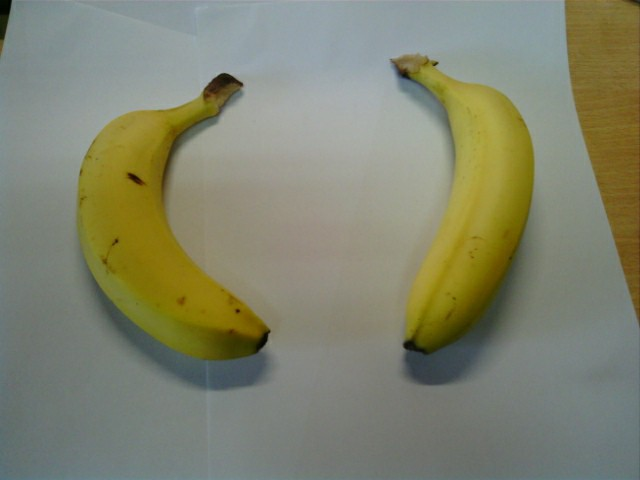fresh_banana: (388, 51, 540, 355)
normal_banana: (73, 76, 271, 359)
